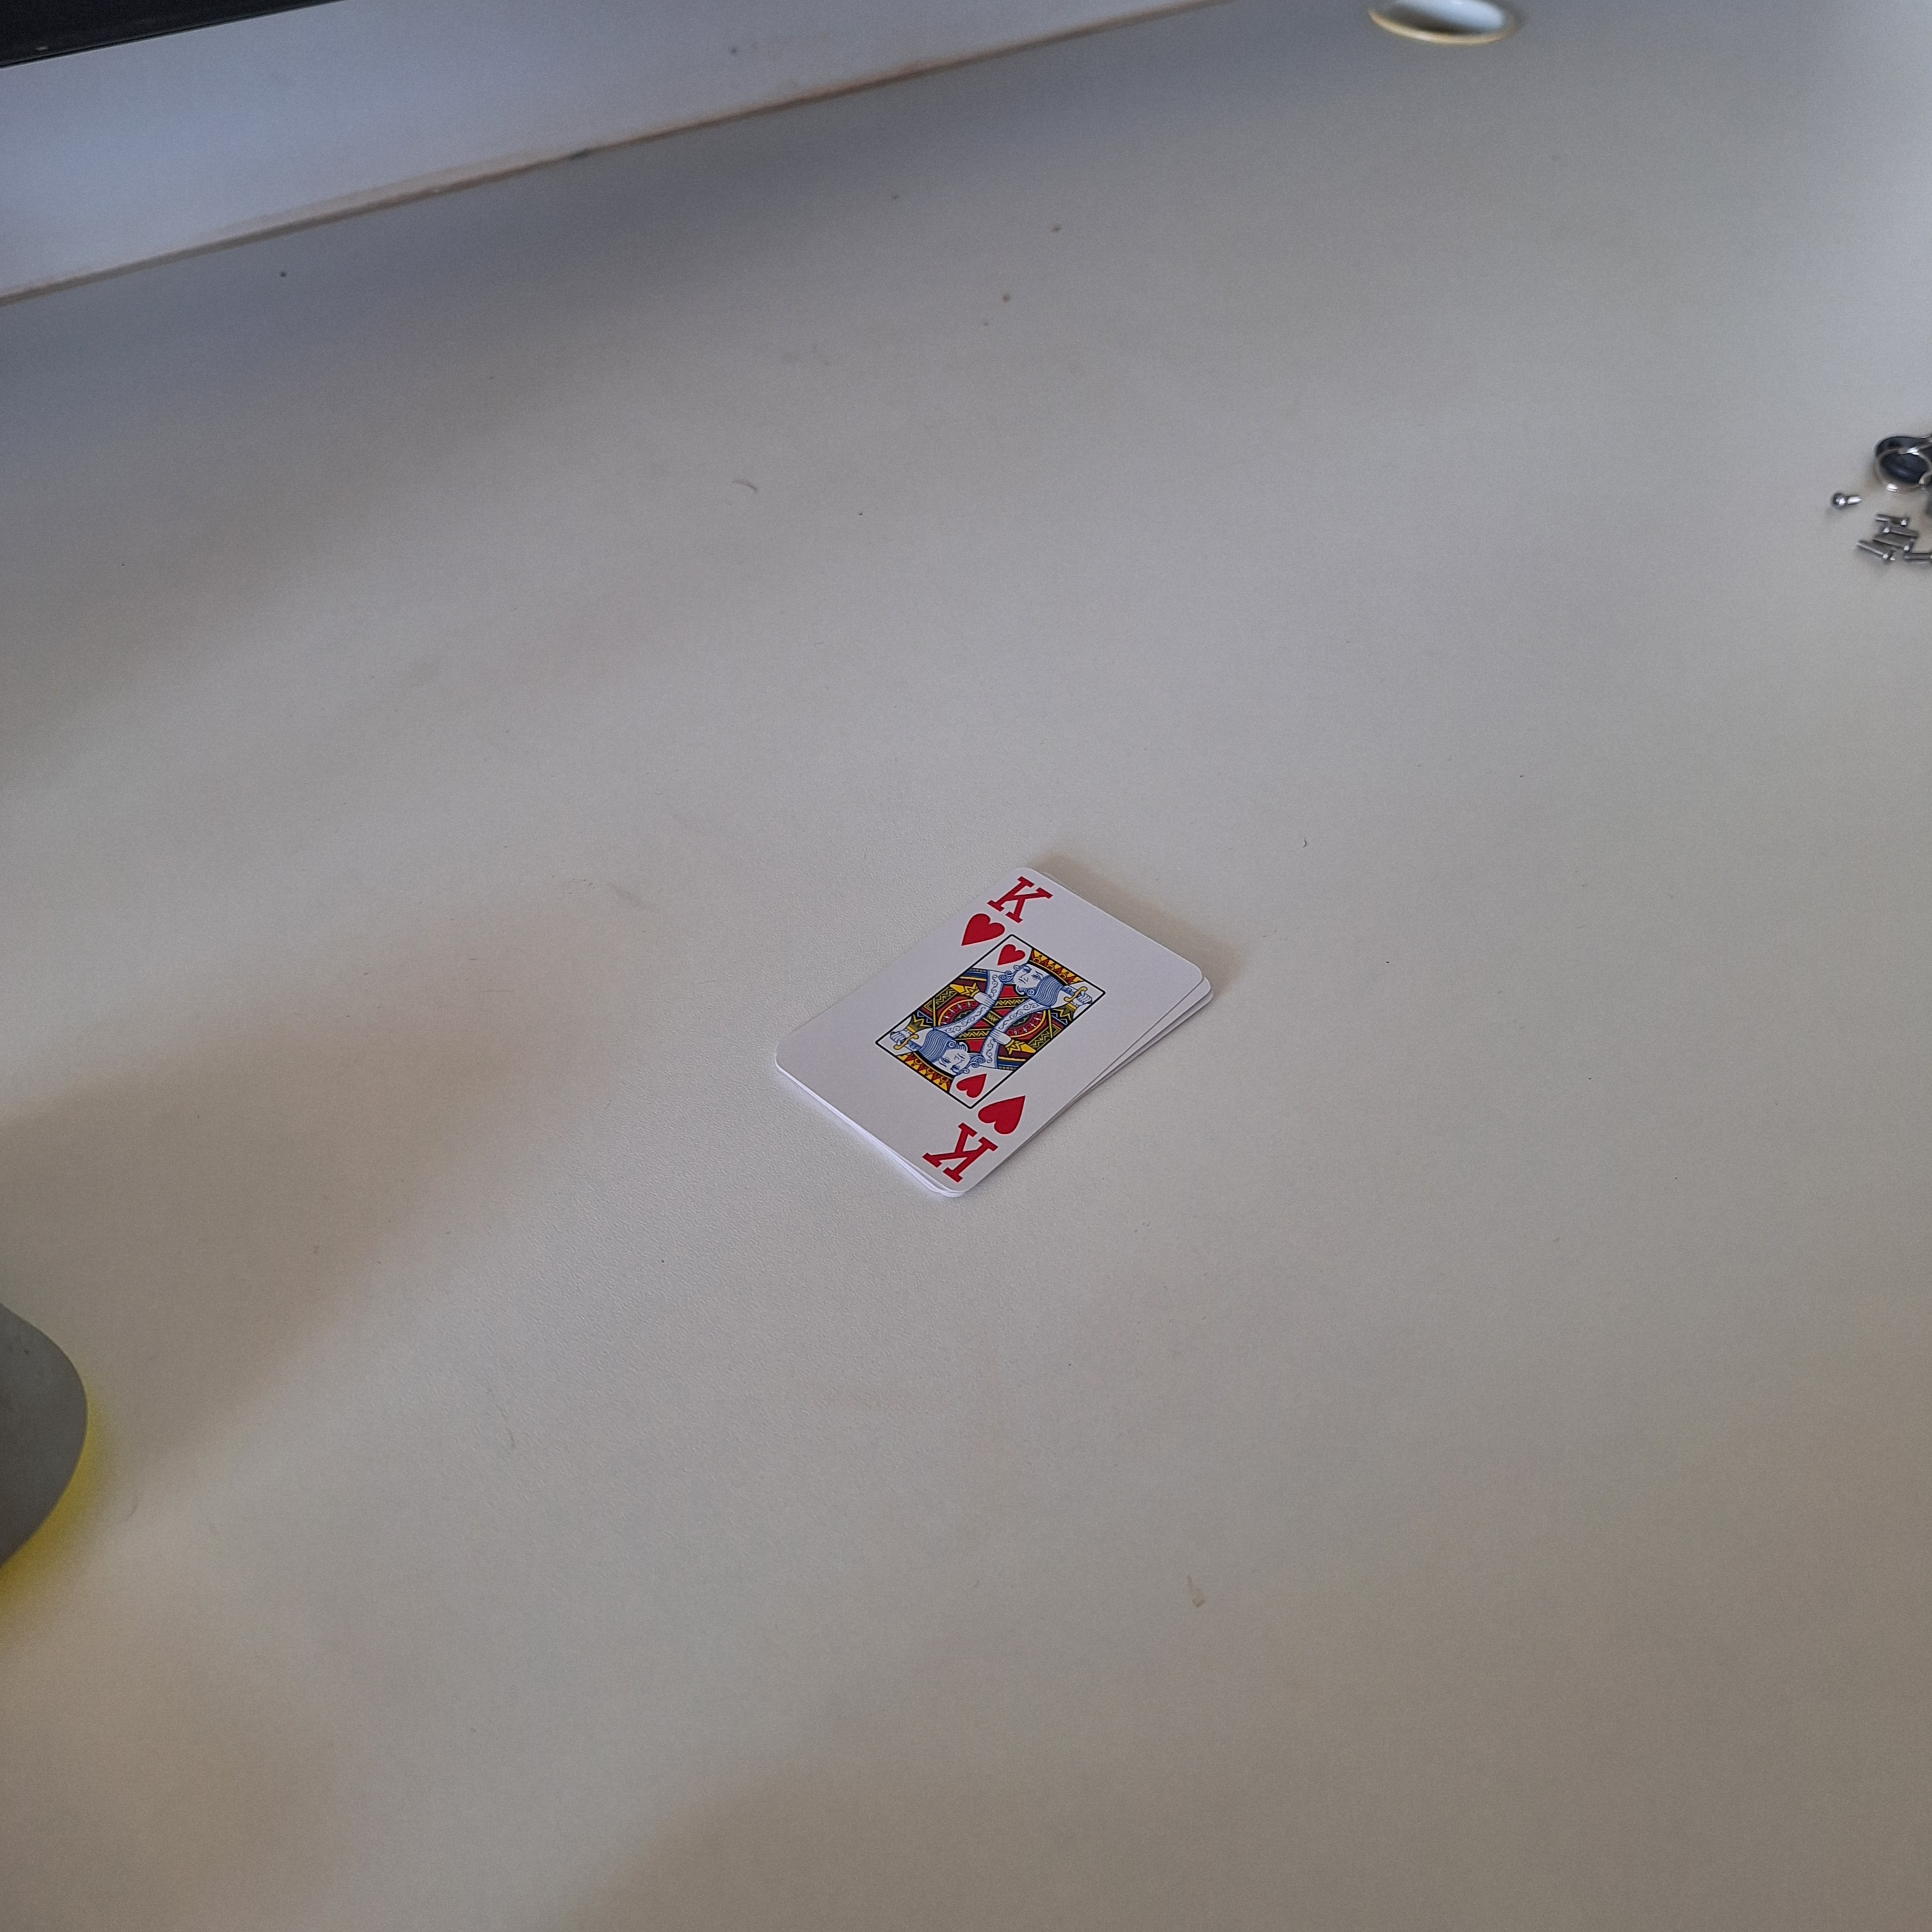KC: (916, 1090, 1044, 1187), (955, 872, 1056, 948)
